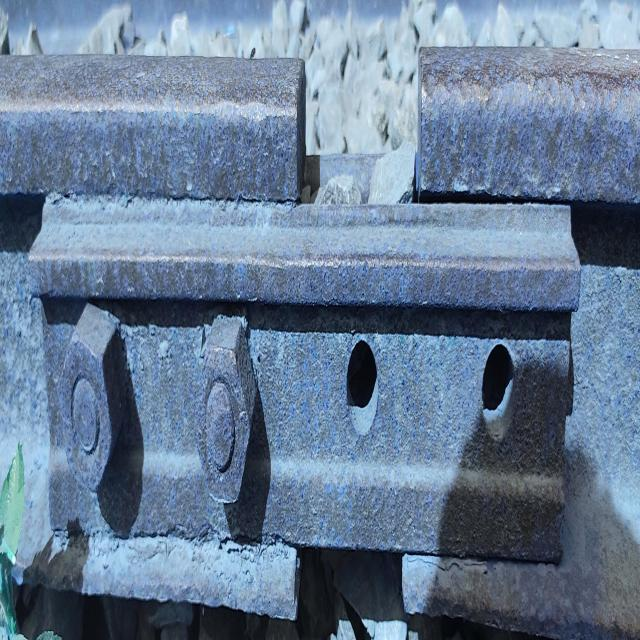Defective Joint: (39, 192, 585, 567)
